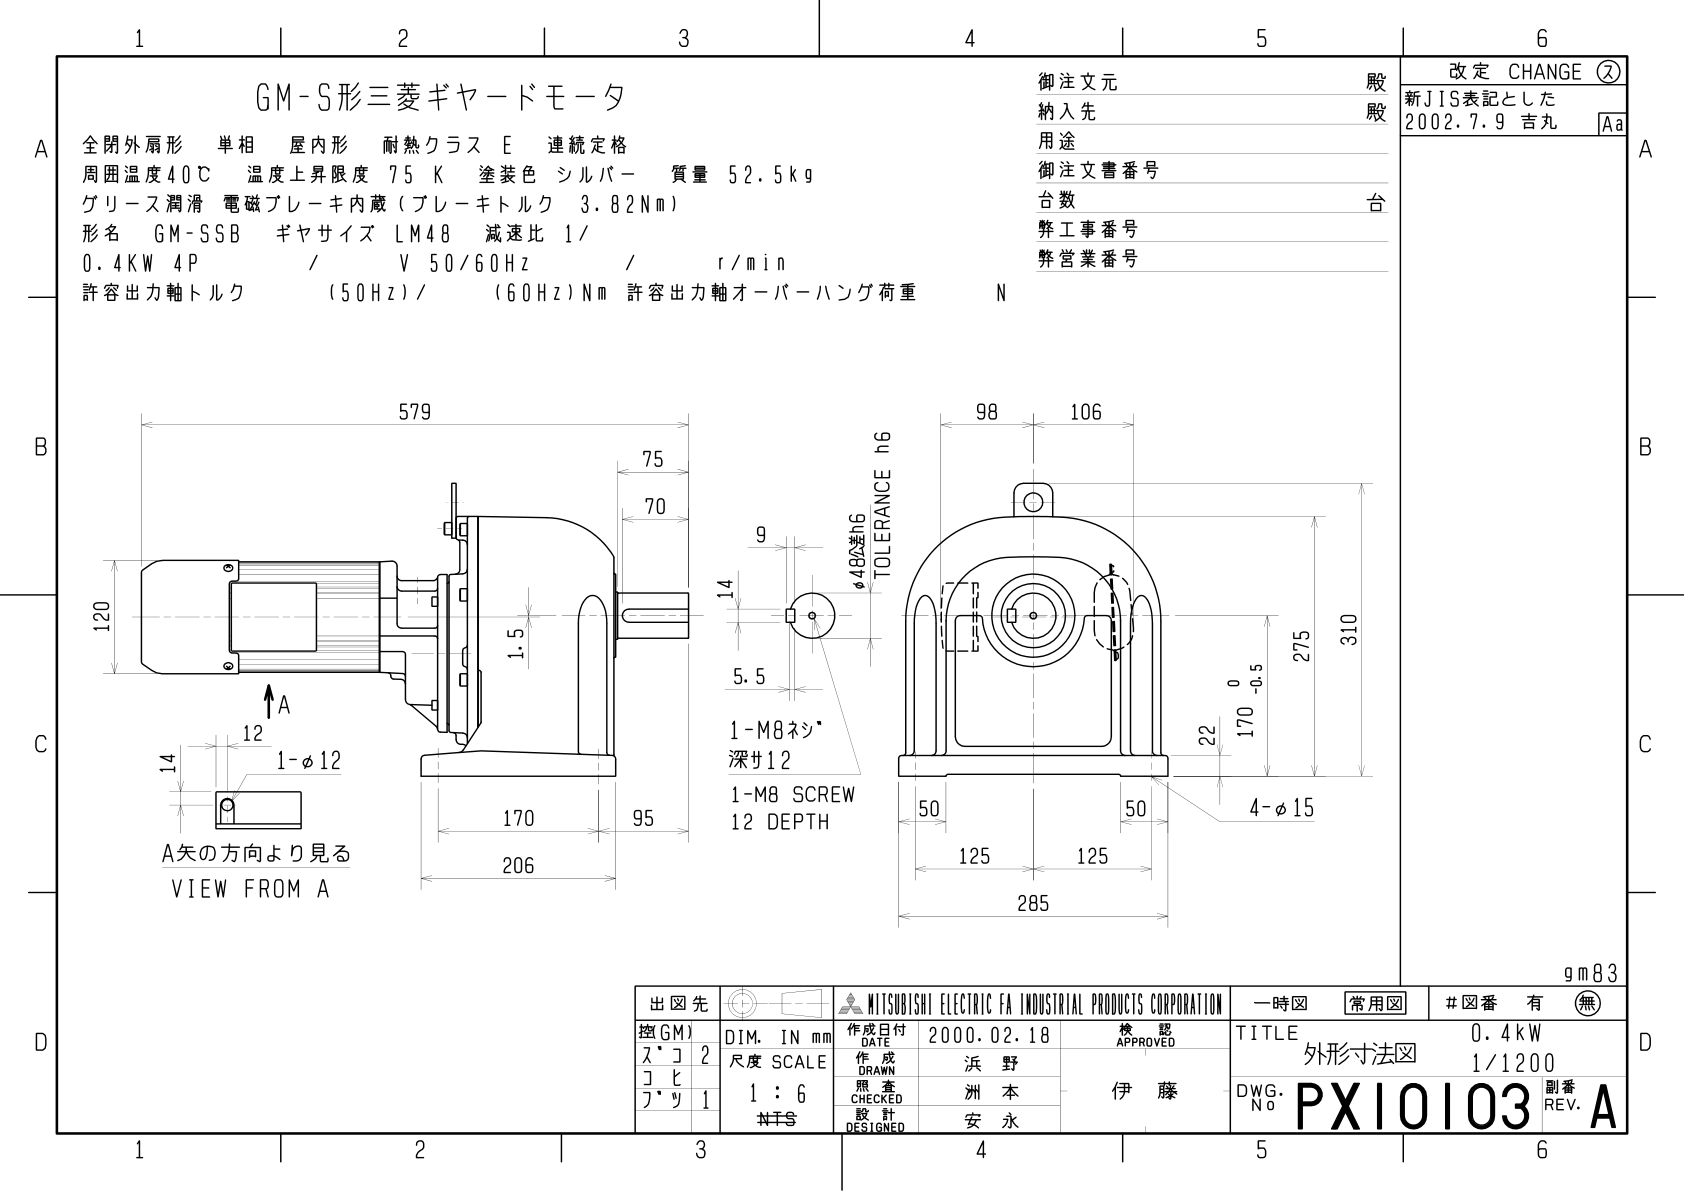GM_S_屋内＿三相_脚: (81, 385, 1381, 967)
